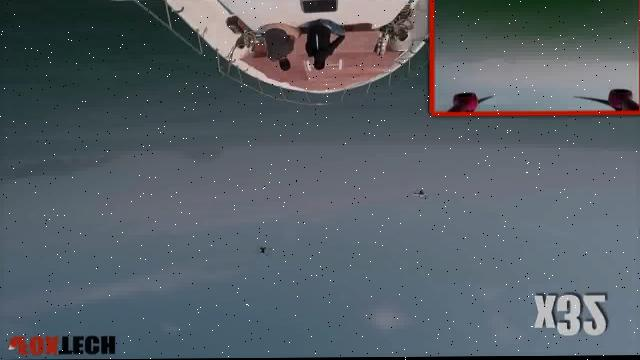drone: (394, 175, 446, 206), (246, 238, 276, 267)
